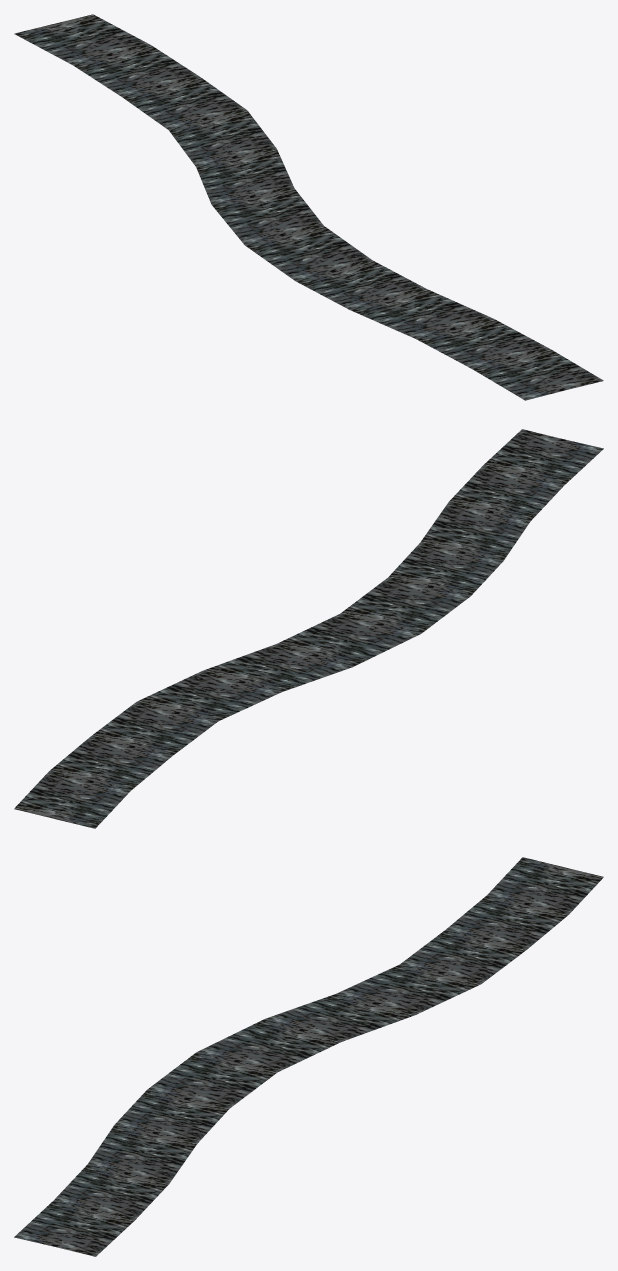
Rendered from OZ_28_ho_riv02G.glb.
3 renders of one model, top to bottom at view 1: azimuth 30°, elevation 25°; view 2: azimuth 150°, elevation 25°; view 3: azimuth 330°, elevation 25°, orthographic. The views are drawn at different scales.
Parts seen in each view (by area): view 1: OM_28_ho_riv02G; view 2: OM_28_ho_riv02G; view 3: OM_28_ho_riv02G.
Boxes of the visible parts, x1,y1,x2,y2 form: OM_28_ho_riv02G: (14,14,603,400); OM_28_ho_riv02G: (14,429,603,828); OM_28_ho_riv02G: (14,857,603,1256).
Bounding box in the file's own units: 5.31 × 0.01 × 33.04.
Materials: 2 (2 with a texture image).
